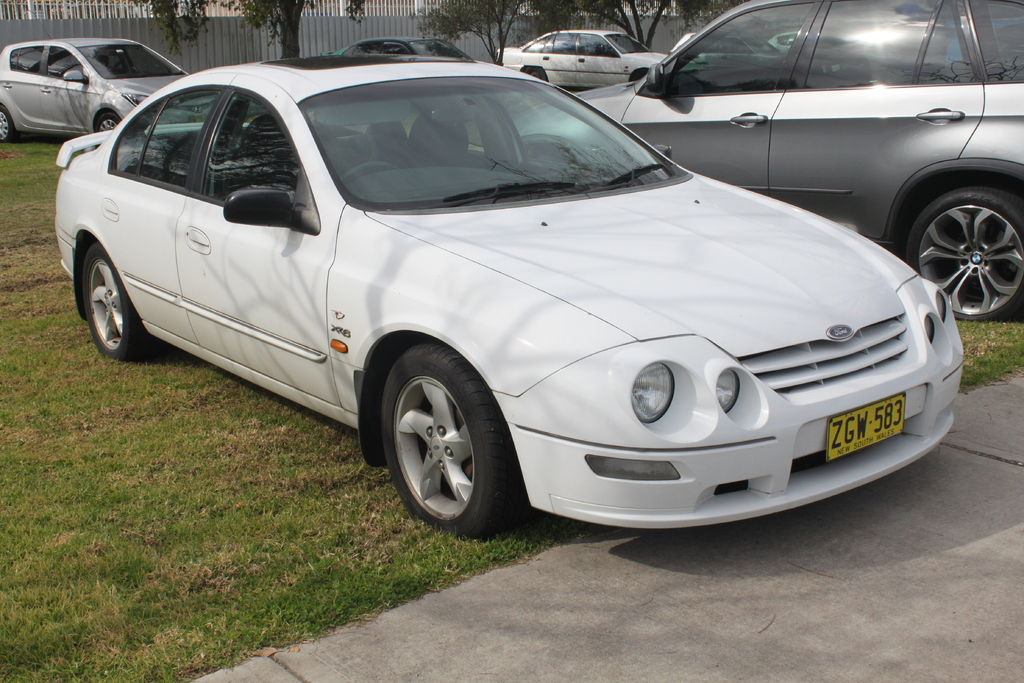Car: (48, 56, 972, 534), (508, 0, 1023, 324), (0, 35, 222, 141), (320, 32, 514, 111), (494, 26, 675, 90), (673, 31, 780, 61)
